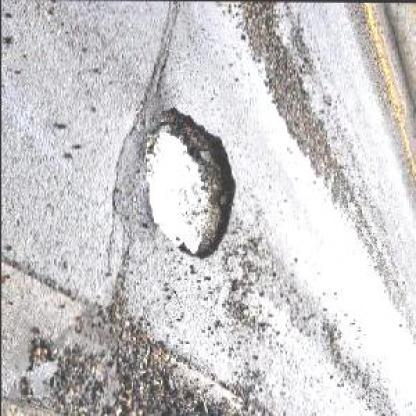pothole: (144, 105, 239, 262)
